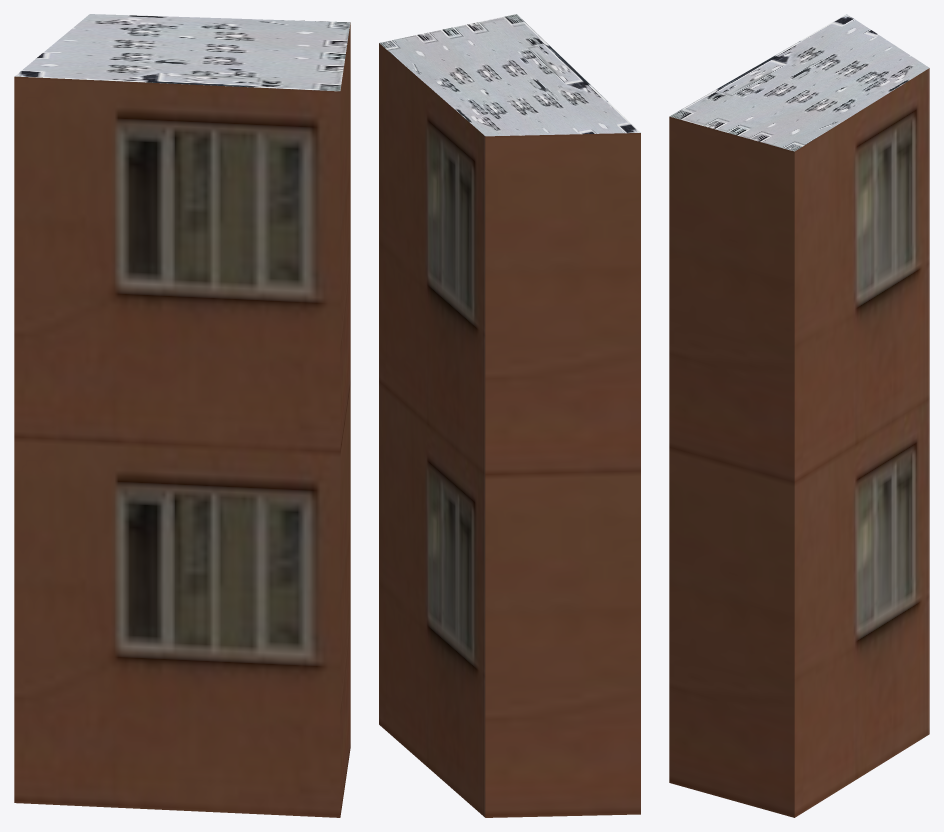
Rendered from ResTex__3831.fbx.
3 renders of one model, left to right at view 1: azimuth 30°, elevation 25°; view 2: azimuth 150°, elevation 25°; view 3: azimuth 270°, elevation 25°, orthographic. The views are drawn at different scales.
Parts seen in each view (by area): view 1: CityEngineMaterial_20_m, CityEngineMaterial_8_m; view 2: CityEngineMaterial_20_m, CityEngineMaterial_8_m; view 3: CityEngineMaterial_20_m, CityEngineMaterial_8_m.
Boxes of the visible parts, bbox=[...] form: CityEngineMaterial_20_m: bbox=[14, 22, 350, 817]; CityEngineMaterial_8_m: bbox=[15, 14, 350, 91]; CityEngineMaterial_20_m: bbox=[379, 43, 640, 817]; CityEngineMaterial_8_m: bbox=[379, 14, 640, 136]; CityEngineMaterial_20_m: bbox=[669, 68, 929, 817]; CityEngineMaterial_8_m: bbox=[669, 14, 929, 151].
Size of the model in its own units: 2.66 by 6 by 2.13.
Materials: 2 (2 with a texture image).
